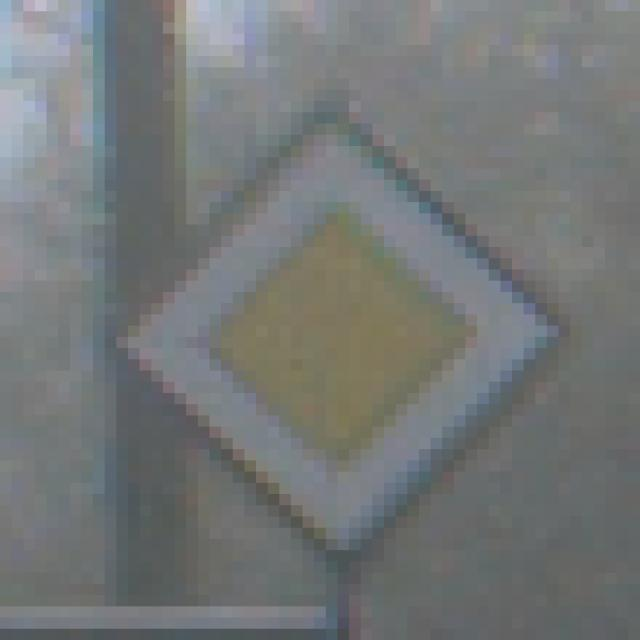Main Road: (71, 57, 583, 585)
